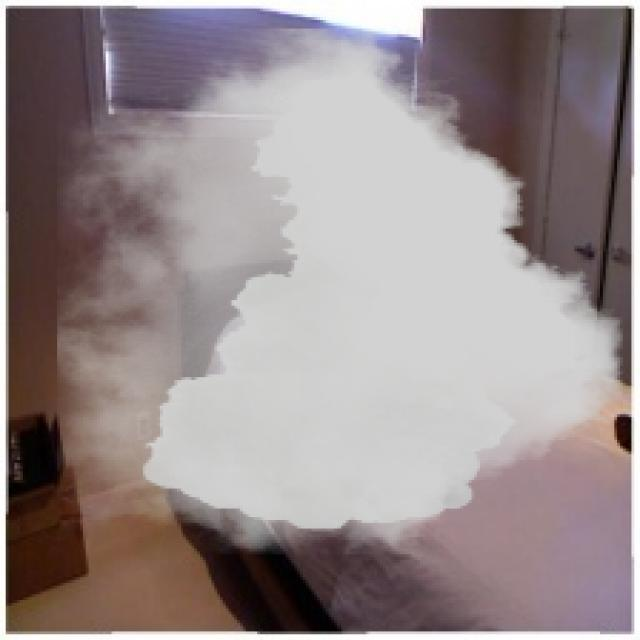Smoke: (57, 28, 623, 554)
